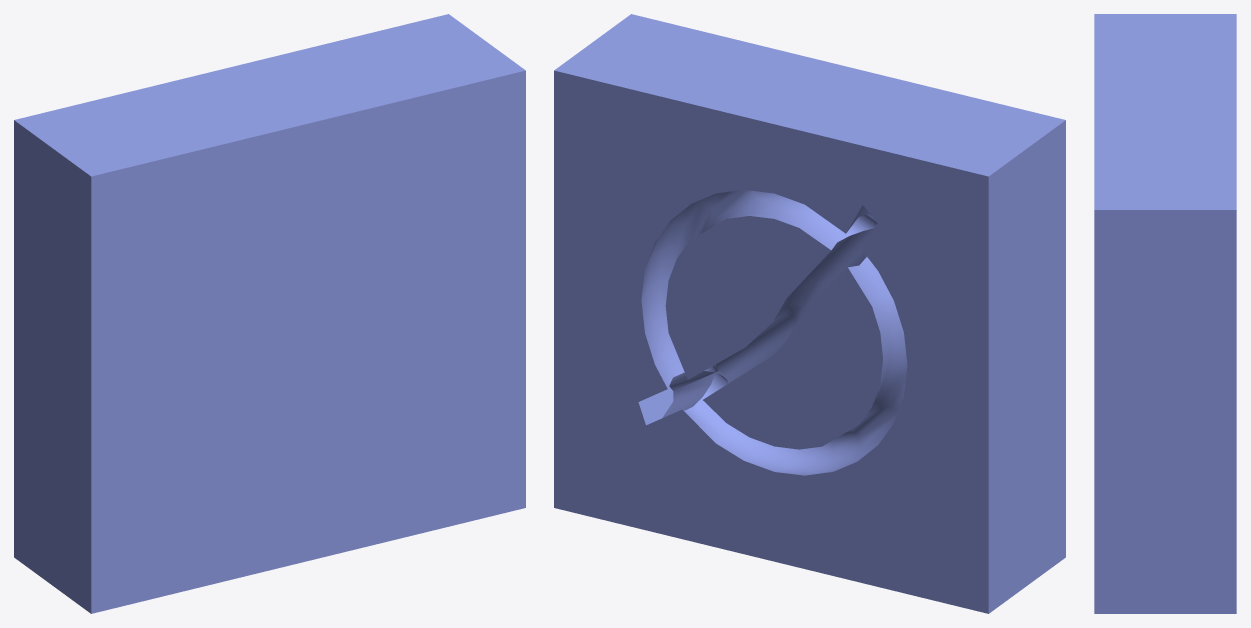
File: FYP_TempleTrapCorridor_CodeBTN1.FBX
3 views of the same model, side by side, from view 1: azimuth 30°, elevation 25°; view 2: azimuth 150°, elevation 25°; view 3: azimuth 270°, elevation 25° (orthographic). The views are drawn at different scales.
Parts seen in each view (by area): view 1: 1stBox; view 2: 1stBox; view 3: 1stBox.
Part boxes in pixels (bbox=[...]): 1stBox: bbox=[14, 14, 525, 613]; 1stBox: bbox=[554, 14, 1065, 613]; 1stBox: bbox=[1094, 14, 1236, 613].
Bounding box in the file's own units: 2.6 × 2.5 × 0.8.
